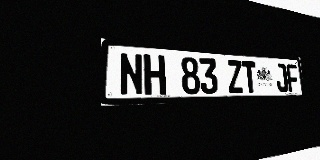3: (199, 58, 218, 94)
8: (180, 56, 201, 94)
F: (286, 64, 299, 92)
H: (143, 54, 166, 95)
J: (274, 63, 289, 92)
N: (119, 52, 144, 96)
T: (241, 61, 258, 93)
Z: (227, 60, 244, 93)
